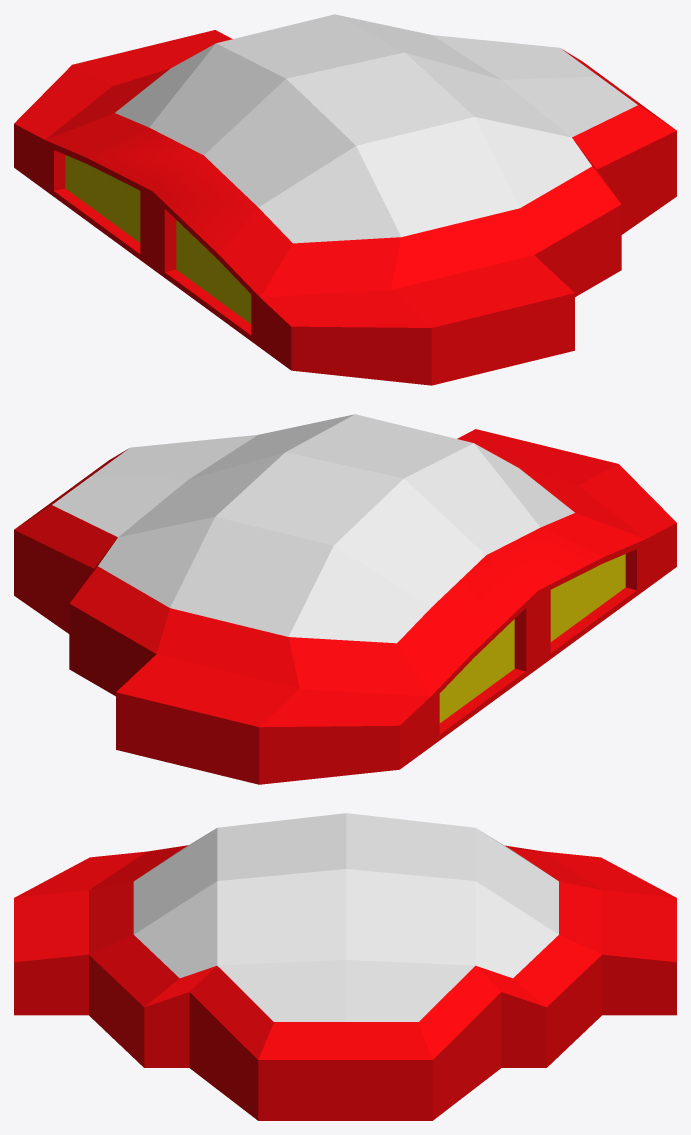
The model's file is EnemyDrone.fbx.
3 renders of one model, top to bottom at view 1: azimuth 30°, elevation 25°; view 2: azimuth 150°, elevation 25°; view 3: azimuth 270°, elevation 25°, orthographic. The views are drawn at different scales.
Visible parts, largest first — view 1: Drone; view 2: Drone; view 3: Drone.
Part boxes in pixels (bbox=[...]): Drone: bbox=[14, 14, 676, 385]; Drone: bbox=[14, 414, 676, 784]; Drone: bbox=[14, 813, 676, 1120].
Size of the model in its own units: 407 by 164 by 531.
